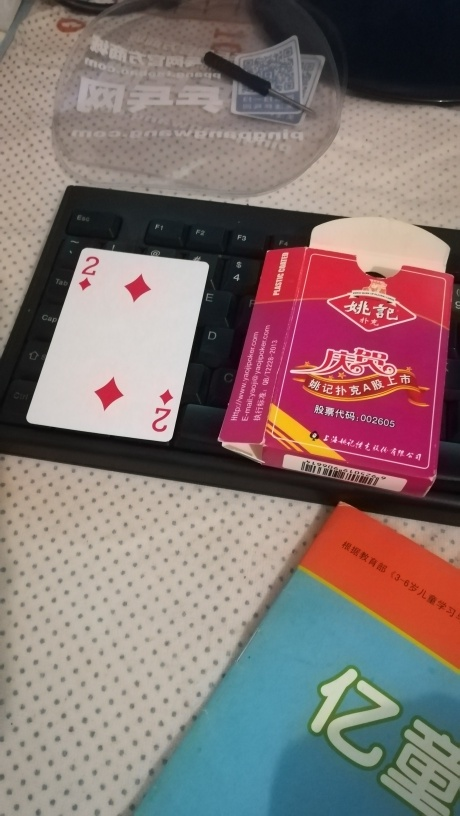fk 2: (21, 242, 211, 446)
